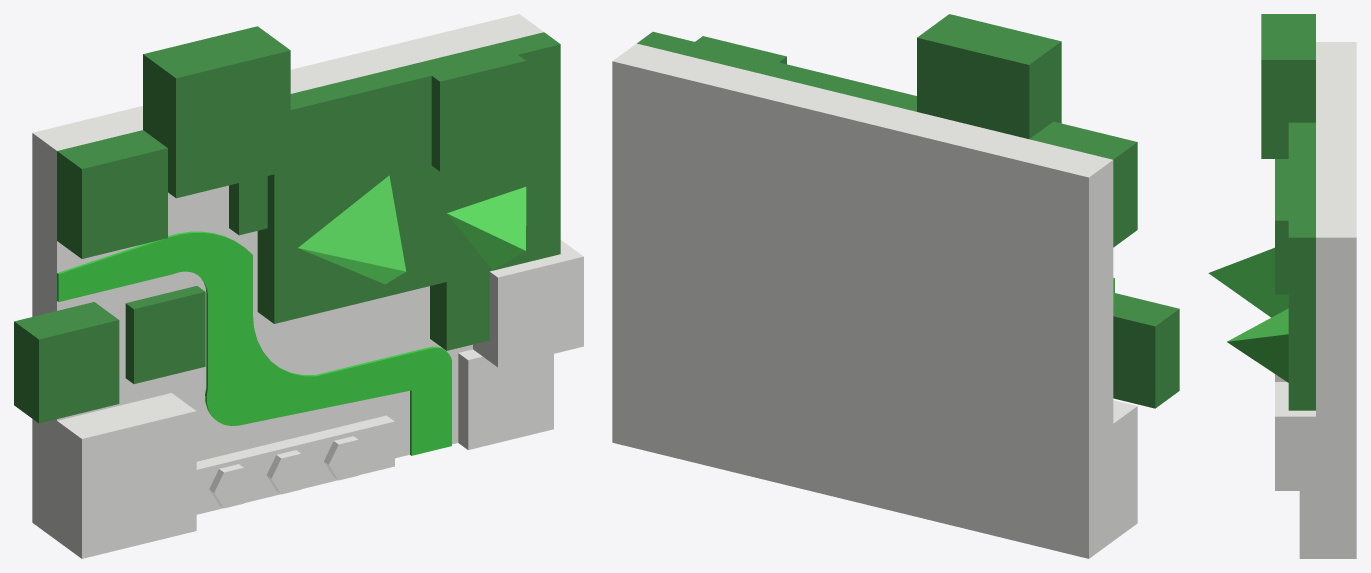
File: stage1)terrain.fbx
3 renders of one model, left to right at view 1: azimuth 30°, elevation 25°; view 2: azimuth 150°, elevation 25°; view 3: azimuth 270°, elevation 25°, orthographic. The views are drawn at different scales.
Visible parts, largest first — view 1: green4, white2, road, green3, white1, green1, green2, green7, white3, white4, white5, green5 (+6 smaller); view 2: white2, green3, green2, green4, green1, white1, green7; view 3: white2, green4, green3, white3, mountain1, mountain2, green7, white4, green2.
Boxes of the visible parts, x1,y1,x2,y2 form: green4: (257,32,560,350); white2: (32,14,543,540); road: (57,231,451,455); green3: (143,26,290,198); white1: (57,393,196,558); green1: (57,130,167,258); green2: (14,302,119,423); green7: (416,43,525,171); white3: (473,240,583,367); white4: (458,349,553,449); white5: (196,415,394,514); green5: (125,286,205,383); white2: (612,43,1113,558); green3: (917,14,1061,138); green2: (1113,293,1179,408); green4: (637,31,916,111); green1: (1029,121,1137,247); white1: (1113,400,1137,540); green7: (694,36,786,73); white2: (1316,42,1356,558); green4: (1288,122,1315,410); green3: (1261,14,1315,158); white3: (1275,382,1315,490); mountain1: (1208,247,1288,317); mountain2: (1227,308,1288,382); green7: (1275,186,1315,294); white4: (1299,491,1315,558); green2: (1275,159,1288,185).
Bounding box in the file's own units: 190 × 155 × 54.5.
